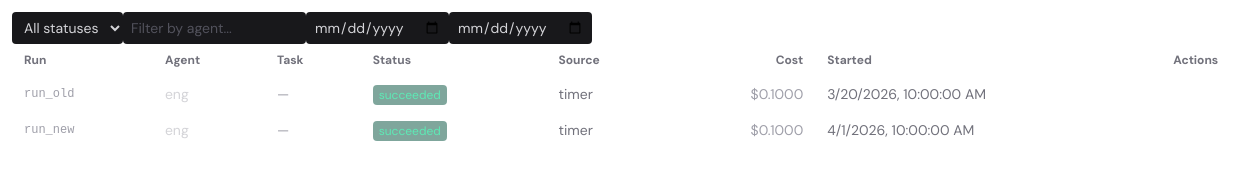
Test: RunInspector › filters runs by start date
Expected: the text "run_old" is shown, [12, 76, 153, 112]
Expected: the text "run_new" is shown, [12, 112, 153, 148]
Note: Type a start date that only matches run_new.
Step 1. Type "2026-03-25" into the date field named "Start date" → [378, 28], box [306, 12, 449, 44]
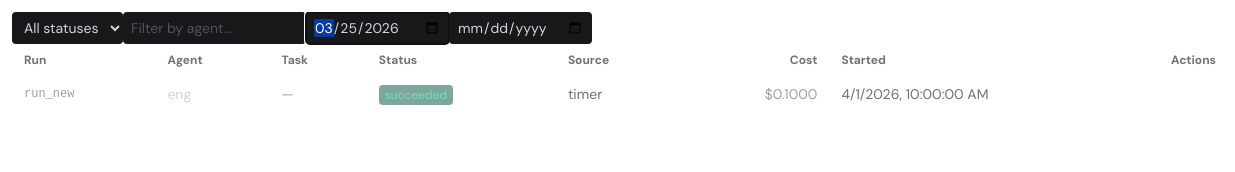
Expected: the text "run_new" is shown, [12, 76, 155, 112]
Expected: the text "run_old" is gone
